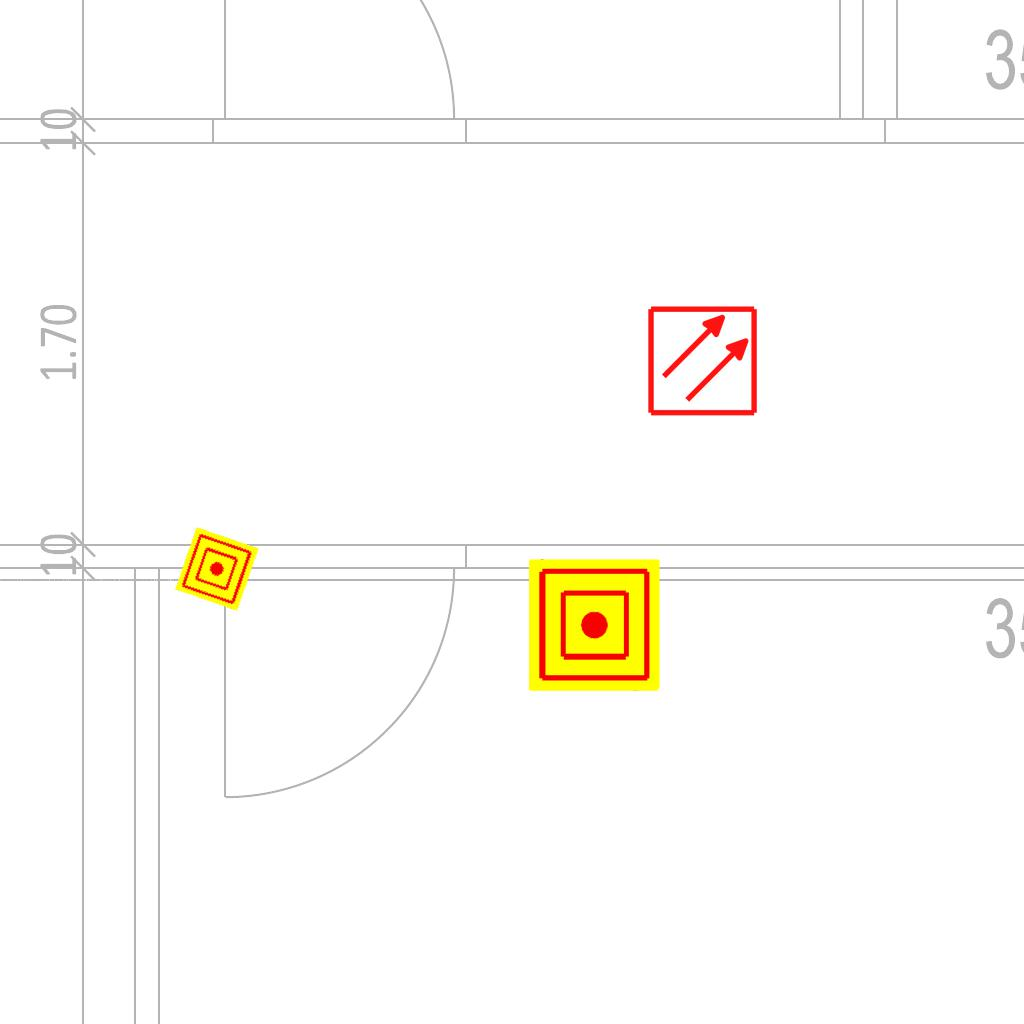NAM-Nichtautomatischer_Melder: (528, 559, 660, 691), (175, 527, 259, 611)
RMO_Rauchmelder_optischer: (646, 304, 759, 417)
